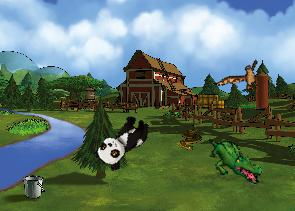crocodile: (201, 136, 267, 185)
eagle: (213, 49, 271, 107)
panda: (91, 108, 154, 174)
